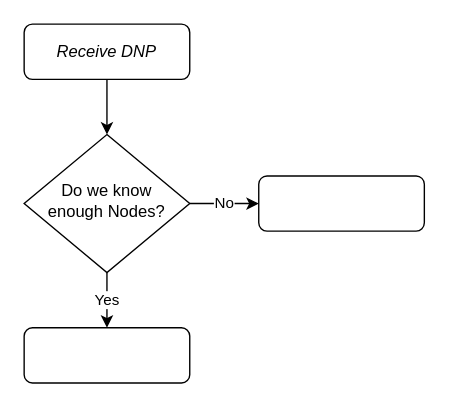
This 449x407 diagram has some shape labels left out. The shapes that lost their labels are listed below. From the top down, each one's box as (x1, y1, x2, y2) in pixels, then its label:
(257, 175, 424, 231): End
(23, 326, 190, 383): Send NPP
